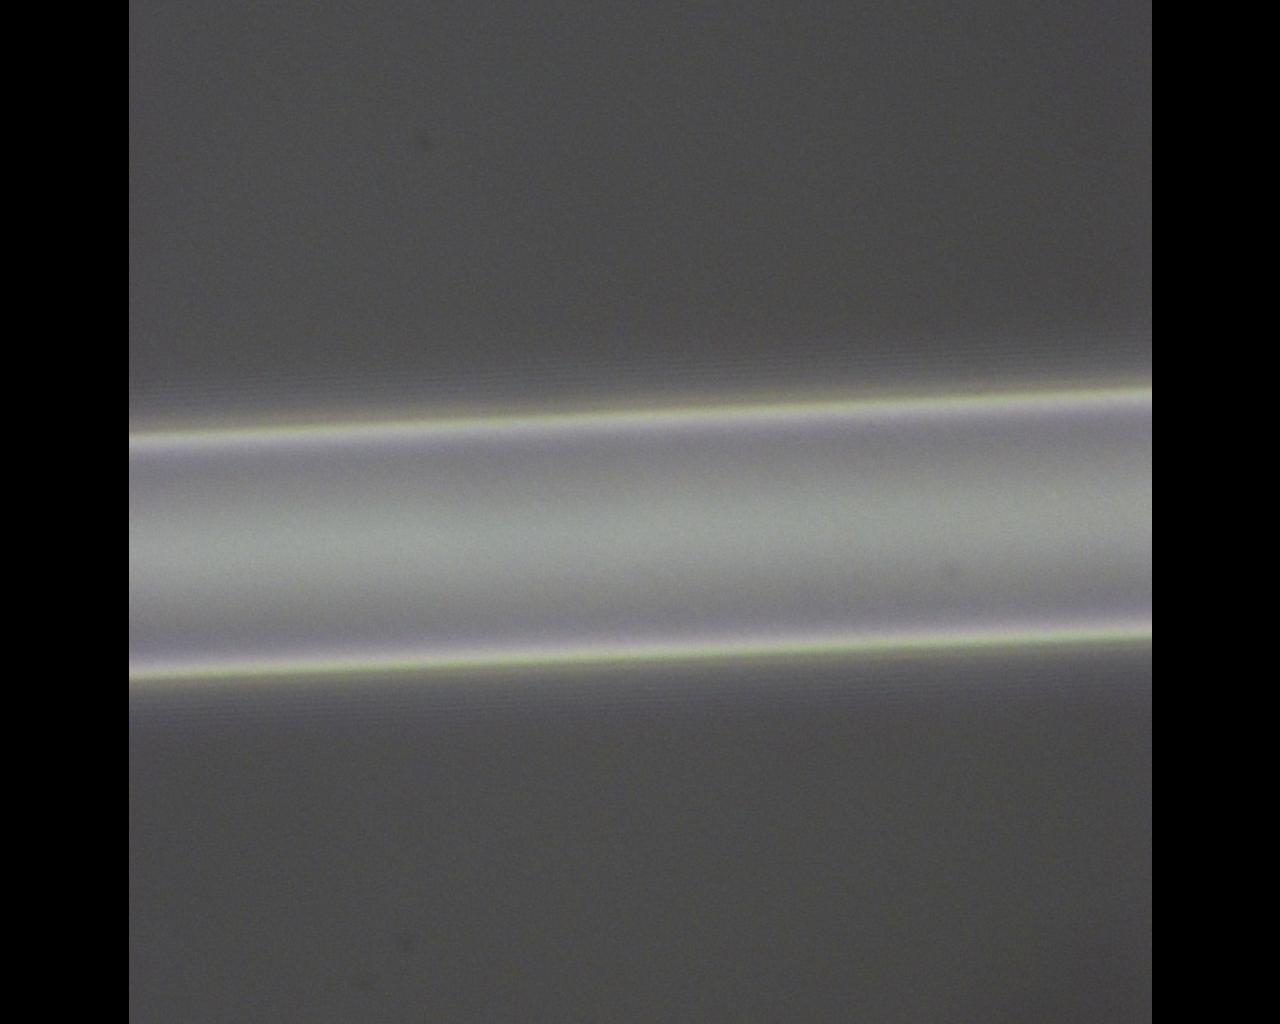fiber: (127, 380, 1151, 683)
